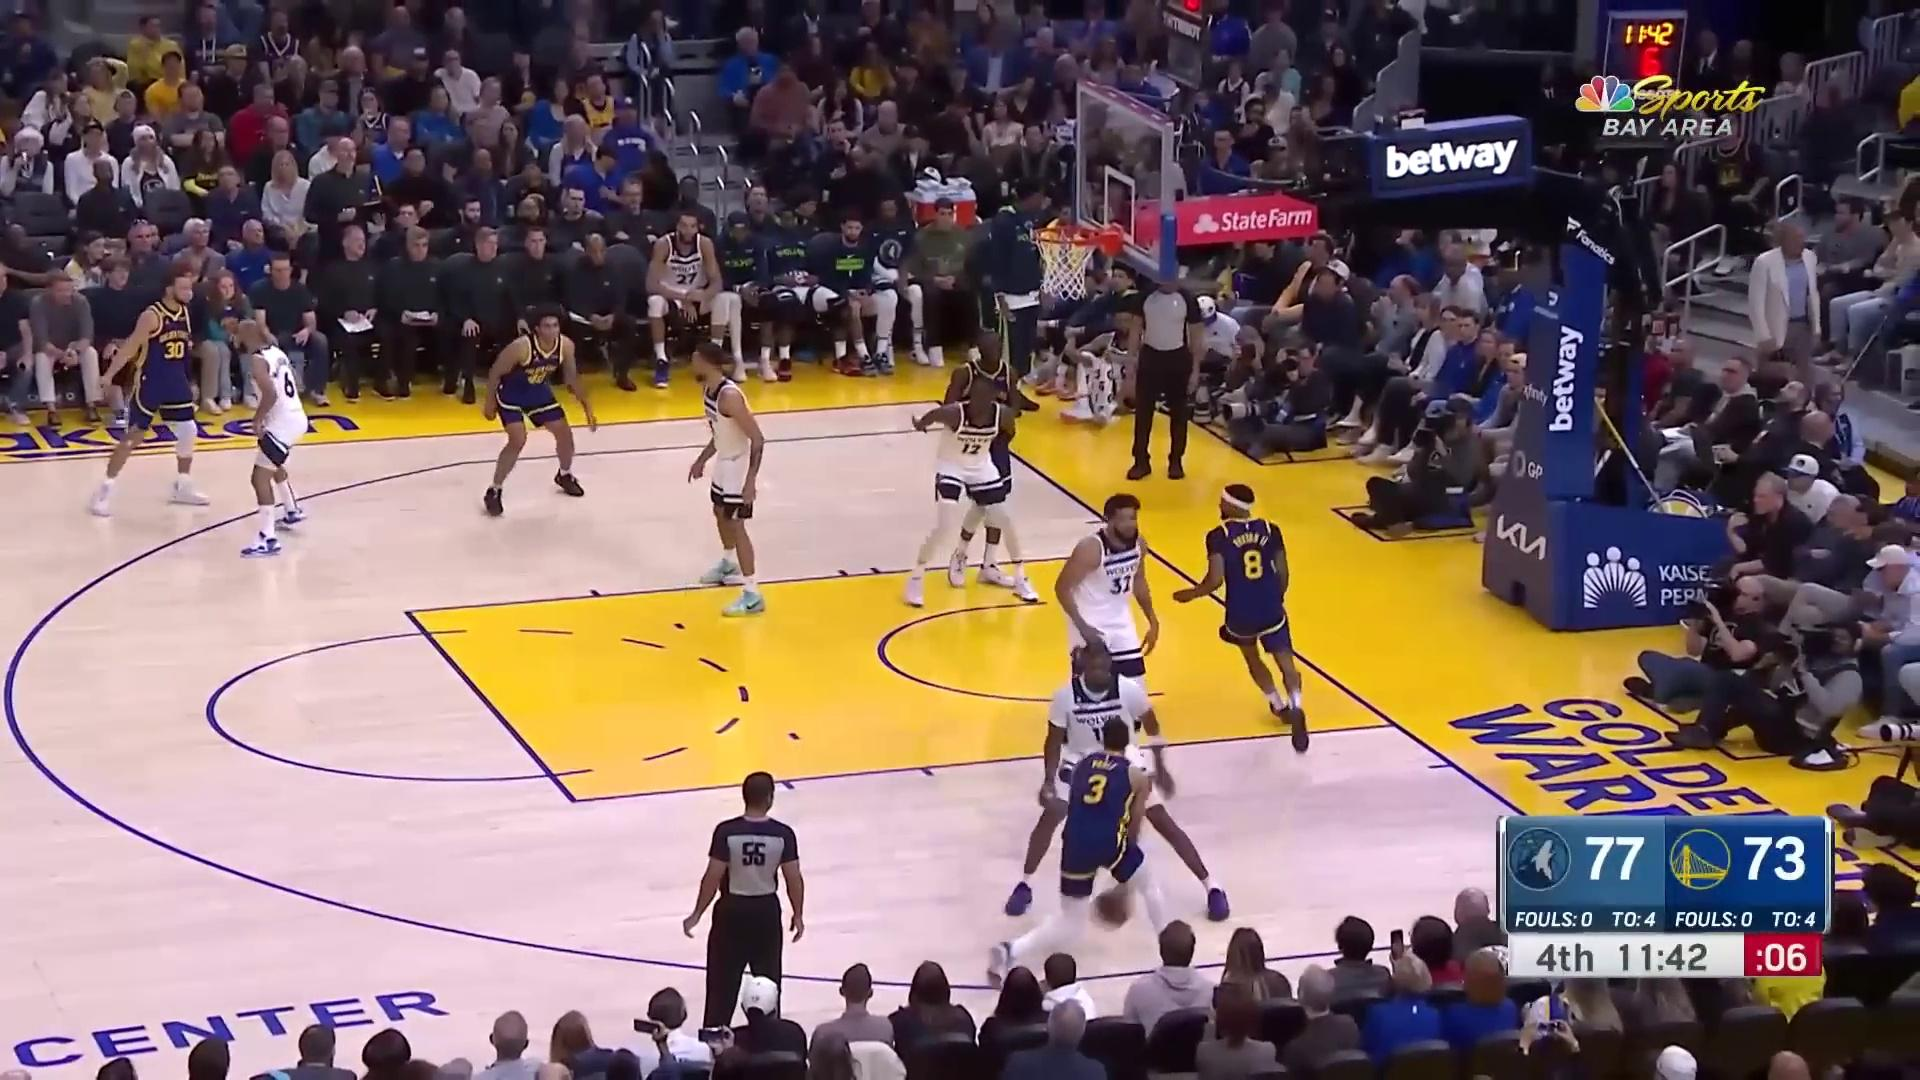Ball: (1093, 888, 1134, 931)
Player: (999, 634, 1236, 924), (984, 716, 1208, 984), (1053, 489, 1189, 803), (1169, 483, 1316, 751), (903, 376, 1046, 611), (86, 268, 216, 516), (921, 328, 1039, 598), (478, 313, 606, 521), (688, 331, 769, 623), (221, 309, 308, 564)
Rim: (1028, 76, 1186, 331)
